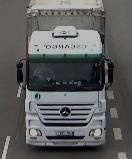truck: (16, 0, 114, 148)
